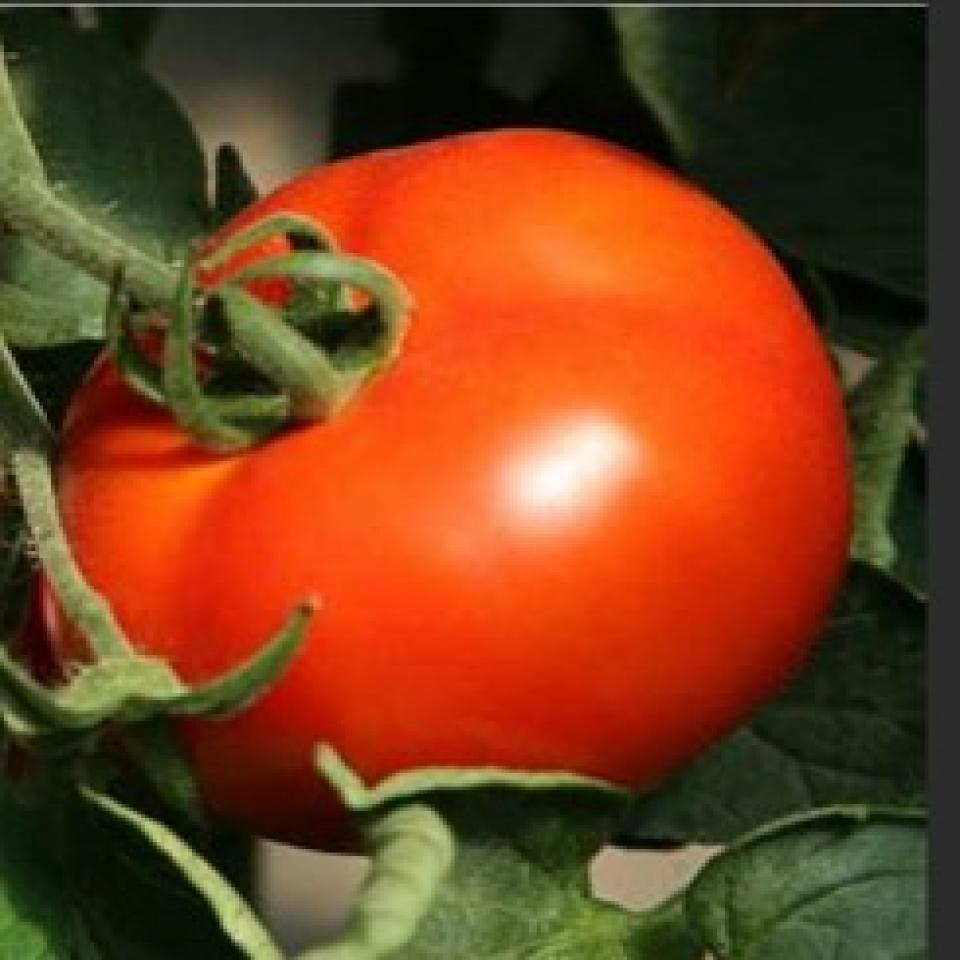Healthy: (55, 116, 825, 791)
